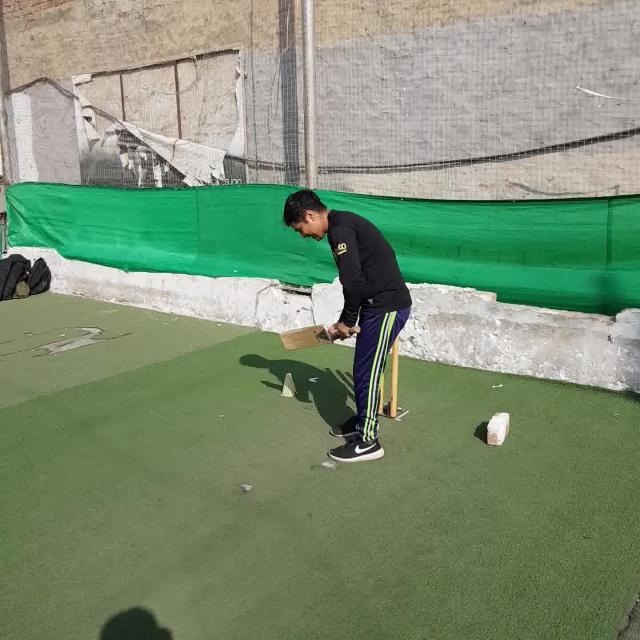bat: (280, 323, 361, 350)
